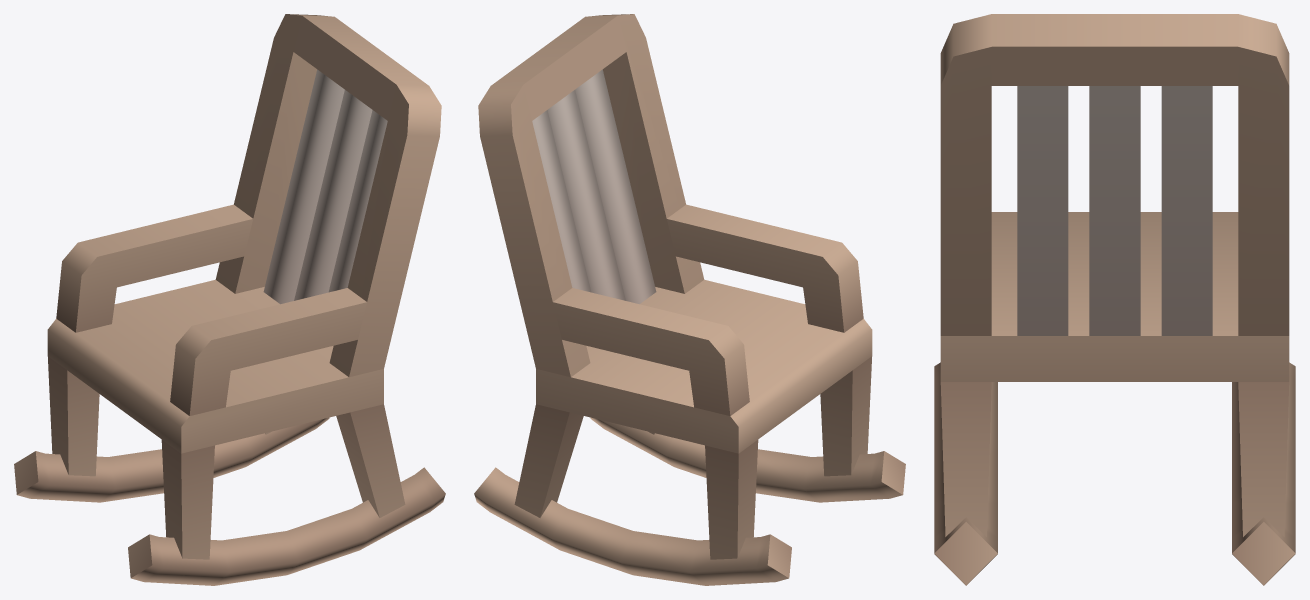
File: chair-rocking-wood.glb
The picture shows the model from 3 angles, left to right: view 1: azimuth 30°, elevation 25°; view 2: azimuth 150°, elevation 25°; view 3: azimuth 270°, elevation 25°; orthographic projection. The views are drawn at different scales.
Parts seen in each view (by area): view 1: chair-rocking-wood; view 2: chair-rocking-wood; view 3: chair-rocking-wood.
Boxes of the visible parts, x1,y1,x2,y2 form: chair-rocking-wood: [14, 14, 445, 585]; chair-rocking-wood: [474, 14, 905, 585]; chair-rocking-wood: [934, 14, 1295, 585].
Size of the model in its own units: 0.5547 by 0.7705 by 0.425.
